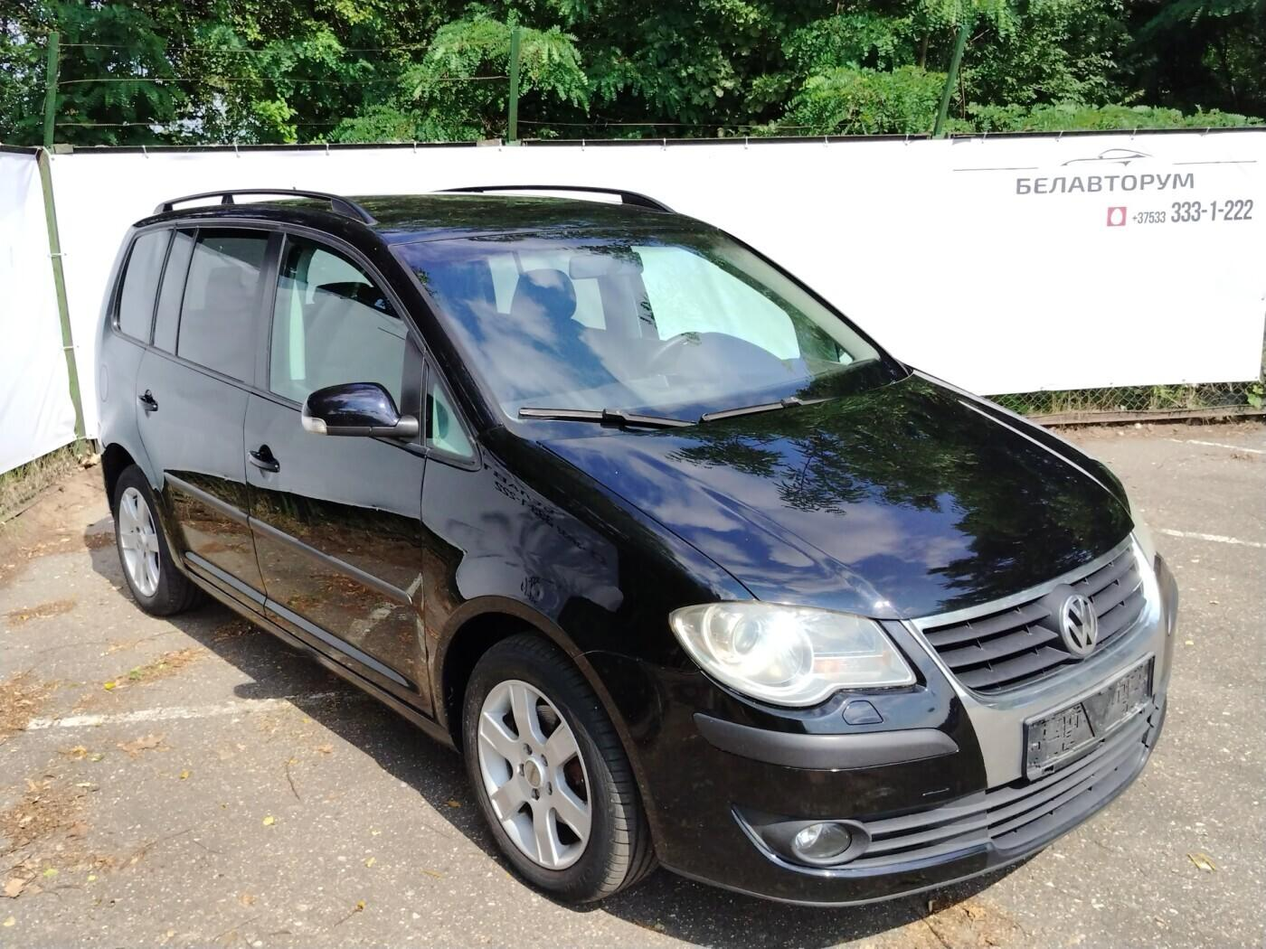Touran_2006-2010: (89, 190, 1185, 905)
